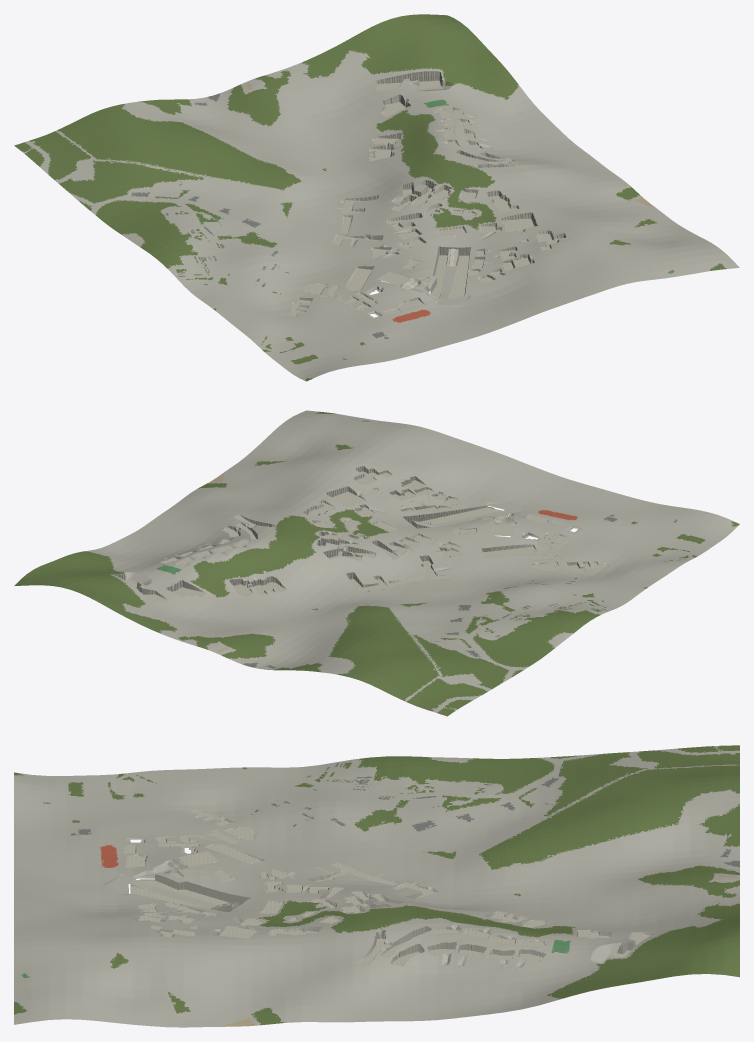
3 renders of one model, top to bottom at view 1: azimuth 30°, elevation 25°; view 2: azimuth 150°, elevation 25°; view 3: azimuth 270°, elevation 25°, orthographic. The views are drawn at different scales.
Visible parts, largest first — view 1: ewha-base, ewha-wood, building-floor-cap, ewha-wood-overlay, ewha-grass; view 2: ewha-base, ewha-wood, building-floor-cap, ewha-grass, ewha-wood-overlay; view 3: ewha-base, ewha-wood, building-floor-cap, ewha-grass, ewha-wood-overlay, ewha-grass-overlay, ewha-asphalt-overlay, ewha-asphalt.
Boxes of the visible parts, x1,y1,x2,y2 form: ewha-base: (22,50,739,380); ewha-wood: (14,14,518,352); building-floor-cap: (290,80,560,316); ewha-wood-overlay: (22,51,518,352); ewha-grass: (96,169,725,381); ewha-base: (85,410,737,712); ewha-wood: (14,510,689,716); building-floor-cap: (125,471,607,602); ewha-grass: (198,412,739,666); ewha-wood-overlay: (88,509,689,713); ewha-base: (14,746,739,1027); ewha-wood: (108,745,739,998); building-floor-cap: (124,810,649,965); ewha-grass: (14,758,551,1025); ewha-wood-overlay: (108,746,739,998); ewha-grass-overlay: (14,758,552,1024); ewha-asphalt-overlay: (43,763,739,867); ewha-asphalt: (44,778,739,866).
Bounding box in the file's own units: 1136 × 149 × 1328.
Materials: 17 (13 with a texture image).
